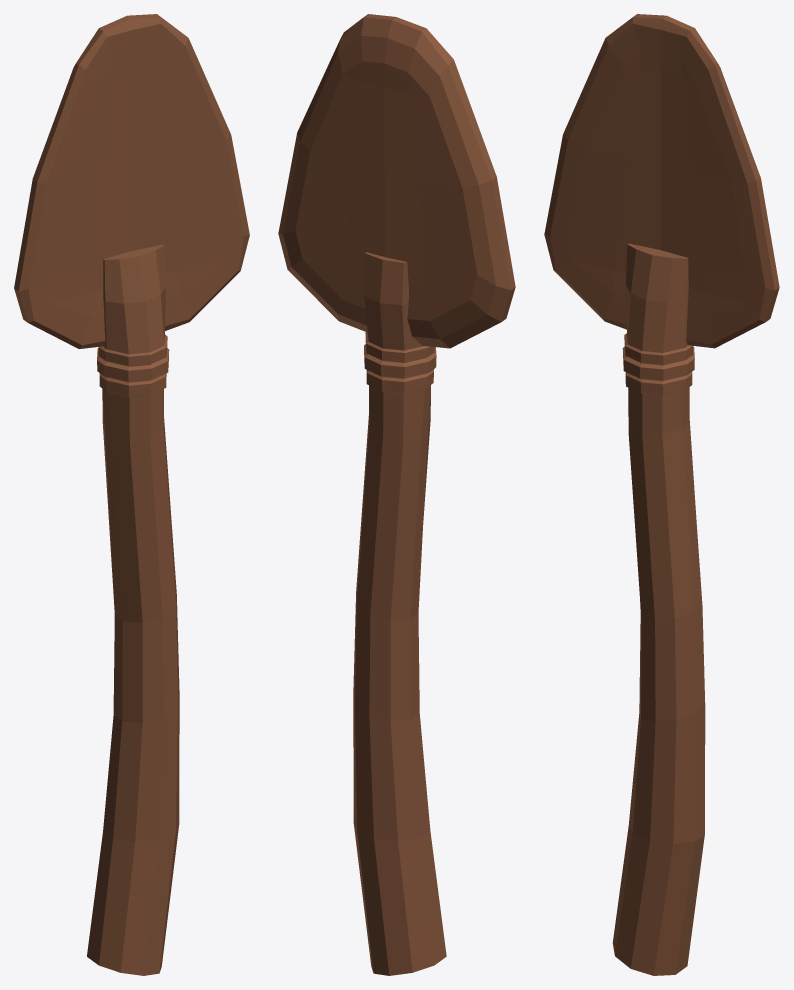
File: Wooden Shovel.glb
3 renders of one model, left to right at view 1: azimuth 30°, elevation 25°; view 2: azimuth 150°, elevation 25°; view 3: azimuth 330°, elevation 25°, orthographic.
Visible parts, largest first — view 1: Wooden Shovel; view 2: Wooden Shovel; view 3: Wooden Shovel.
Boxes of the visible parts, bbox=[...] form: Wooden Shovel: bbox=[14, 14, 249, 975]; Wooden Shovel: bbox=[278, 14, 515, 975]; Wooden Shovel: bbox=[544, 14, 779, 975].
Bounding box in the file's own units: 28.35 × 111 × 8.42.
